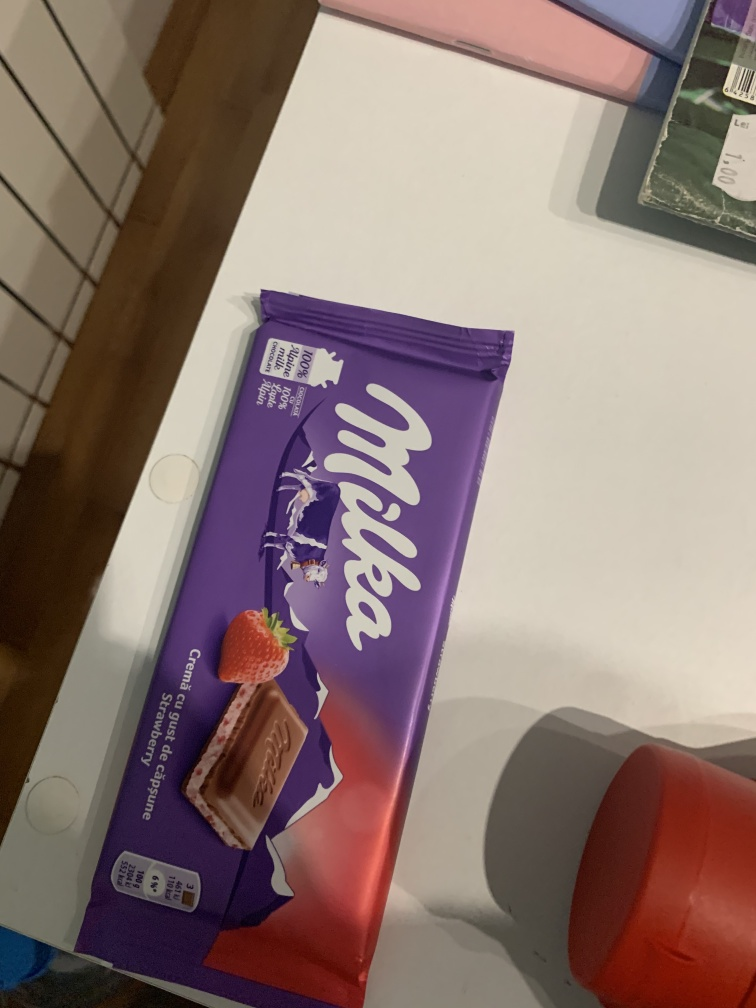milka: (88, 284, 520, 1008)
